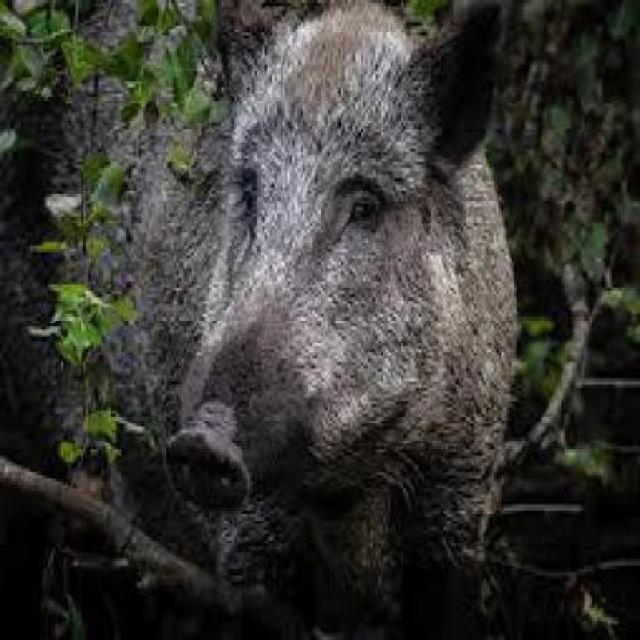wildboar: (44, 0, 527, 640)
